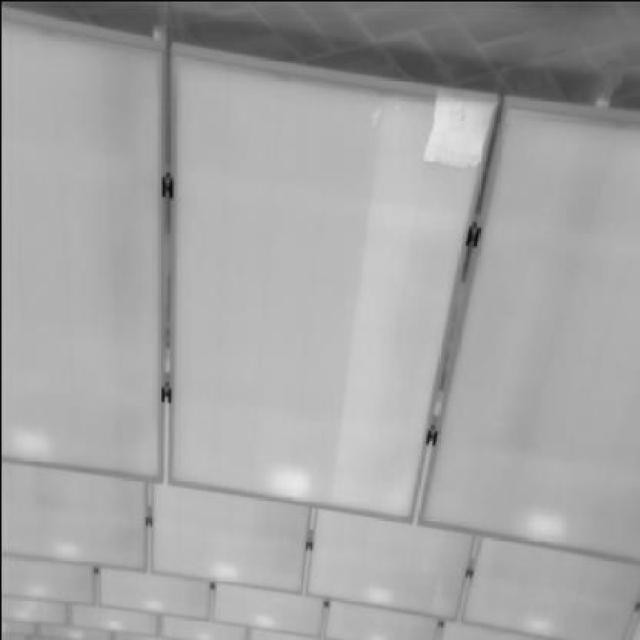hotspot: (424, 88, 493, 168)
